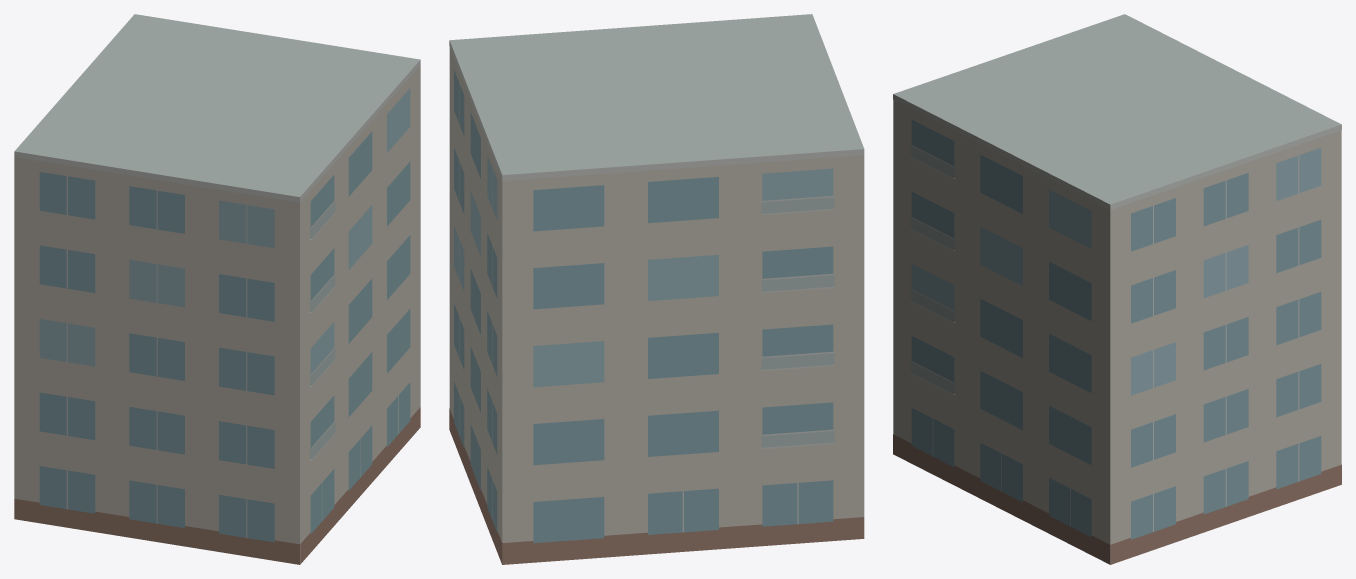
Rendered from survey-upis-32845705.glb.
3 views of the same model, side by side, from view 1: azimuth 30°, elevation 25°; view 2: azimuth 150°, elevation 25°; view 3: azimuth 270°, elevation 25° (orthographic). The views are drawn at different scales.
Parts seen in each view (by area): view 1: survey-upis-32845705.tmp; view 2: survey-upis-32845705.tmp; view 3: survey-upis-32845705.tmp.
Boxes of the visible parts, x1,y1,x2,y2 form: survey-upis-32845705.tmp: (14,14,420,564); survey-upis-32845705.tmp: (449,14,864,564); survey-upis-32845705.tmp: (893,14,1341,564).
Size of the model in its own units: 18.17 by 16 by 18.07.
